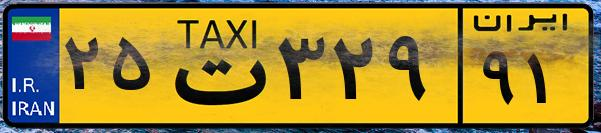1: (525, 38, 570, 115)
2: (330, 28, 385, 110), (57, 26, 110, 100)
3: (270, 28, 330, 110)
5: (110, 28, 158, 98)
9: (385, 28, 445, 110), (475, 38, 525, 113)
ت: (158, 12, 270, 120)
